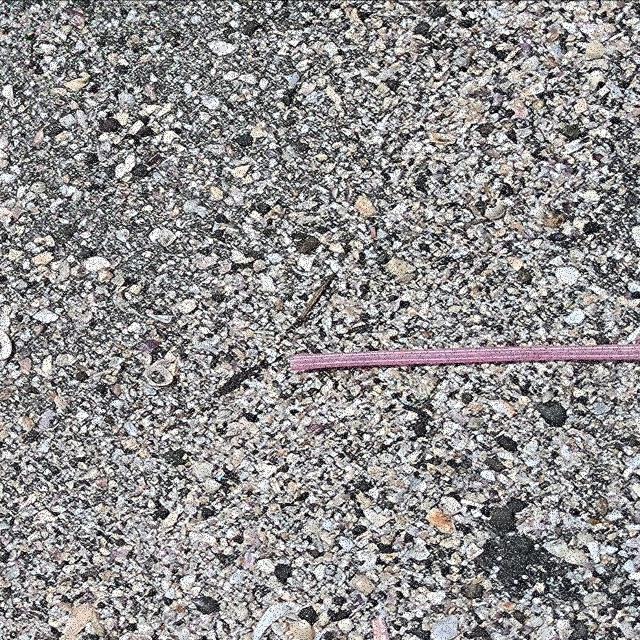plastic_waste: (291, 346, 640, 372)
